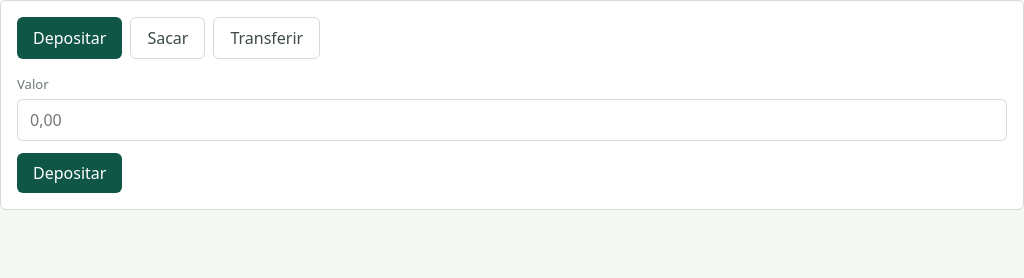
erro da API › aparece no formulário, com a mensagem que veio do backend
This screenshot has width=1024, height=278.
Click the tab "Sacar".
click(168, 38)  # box [130,17,205,59]
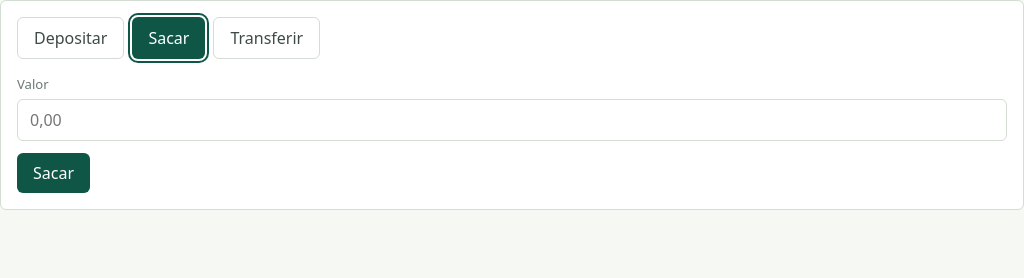
Type "99999" into the field labelled "Valor".
click(512, 120); type("99999")  # box [17,99,1007,141]
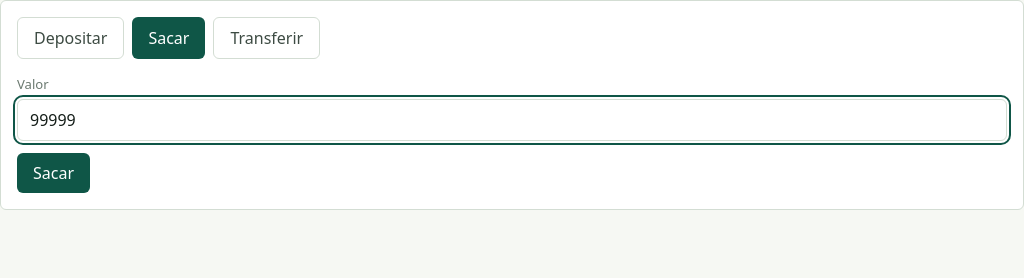
Click the button "Sacar".
click(54, 173)  # box [17,153,90,193]
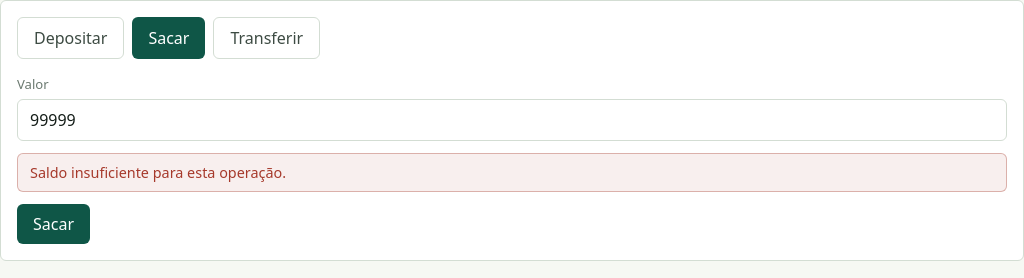
Result: the message shows "Saldo insuficiente" at [30,163,286,182]
